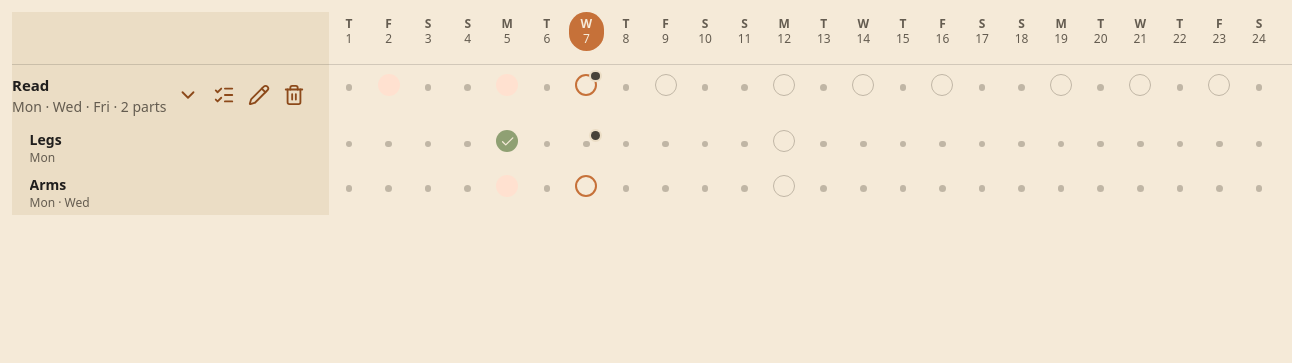
it: HabitGrid › notes on the parts’ days › on a part’s own cell › has a field on a day that is not the part’s but carries a note, so it can be read and changed
Step 1. Hover over the picture named "Wed 7 Oct: not scheduled. Note: went anyway" → (586, 144), box [575,133,597,155]
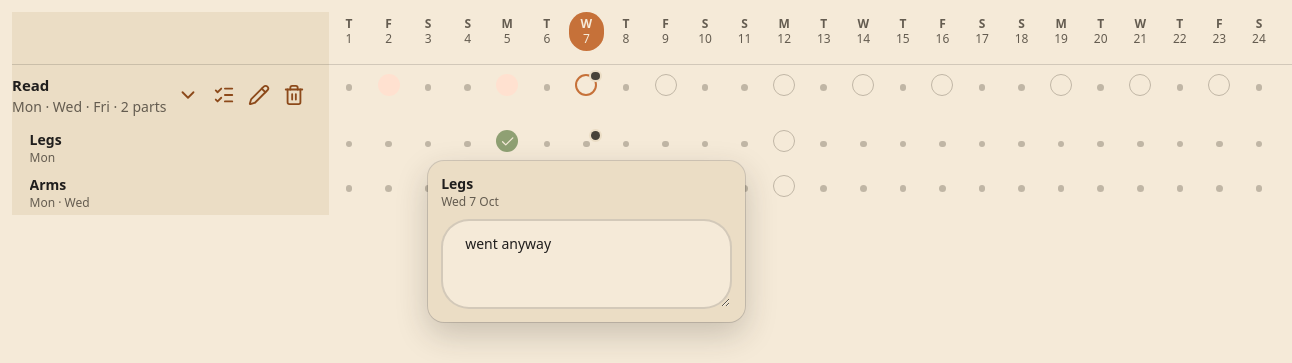
Expected: the text box named "Note for Legs, Wed 7 Oct" holds "went anyway", [441,219,732,309]
